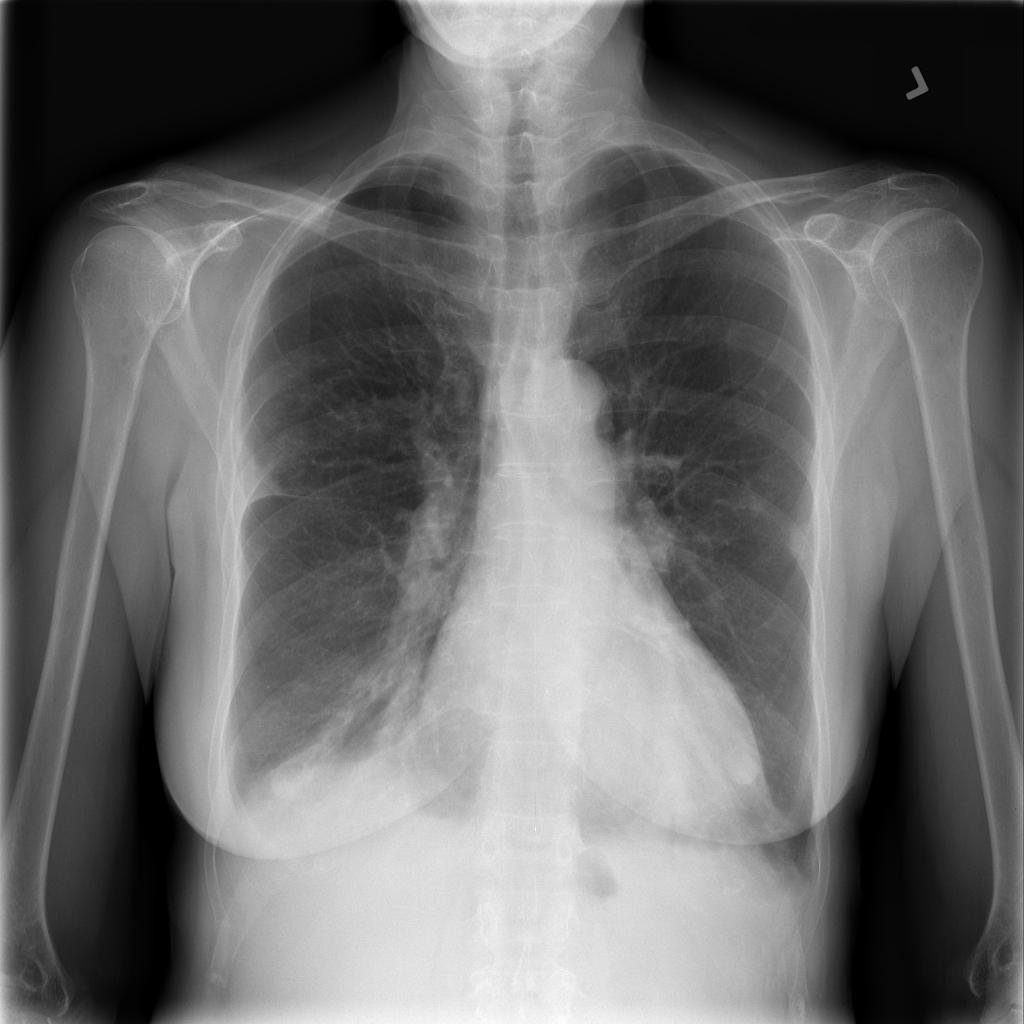nodule: (712, 724, 783, 799)
